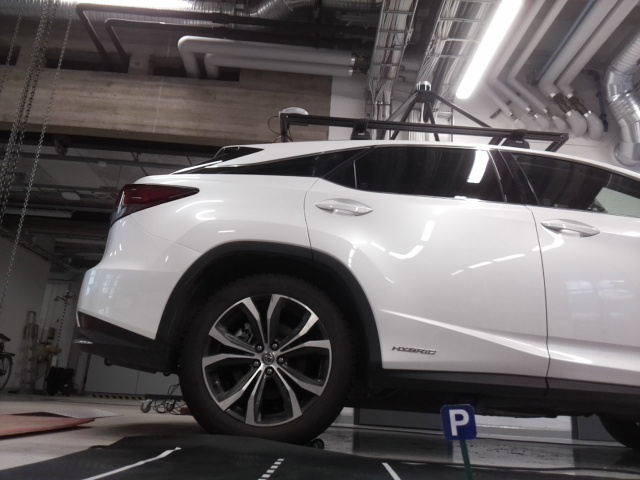Parking: (440, 406, 477, 438)
